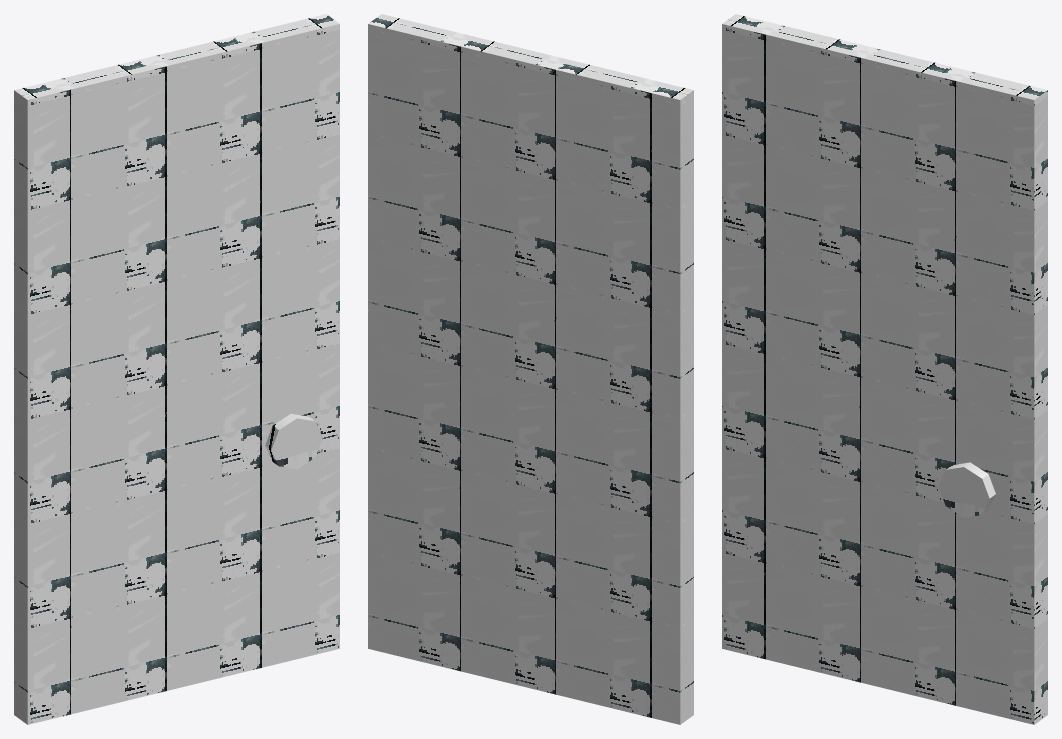
The model's file is CupBoardDoorRight.FBX.
3 renders of one model, left to right at view 1: azimuth 30°, elevation 25°; view 2: azimuth 150°, elevation 25°; view 3: azimuth 330°, elevation 25°, orthographic.
Visible parts, largest first — view 1: CupBoardDoorRight; view 2: CupBoardDoorRight; view 3: CupBoardDoorRight.
Part boxes in pixels (<box>): CupBoardDoorRight: <box>14,14,339,724</box>; CupBoardDoorRight: <box>368,14,693,724</box>; CupBoardDoorRight: <box>722,14,1047,724</box>.
Bounding box in the file's own units: 0.5594 × 0.0851 × 1.07.
Materials: 1 (1 with a texture image).
